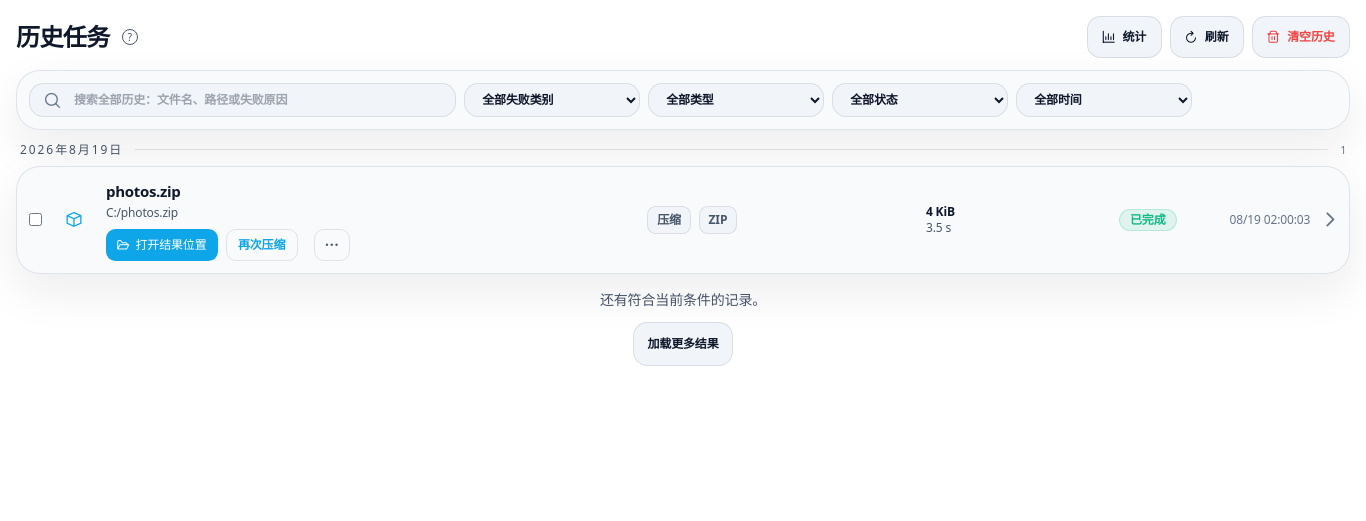
it: HistoryView › 搜索直接返回更早的匹配记录，刷新失败仍保留当前结果
Type "broken" into the field with test id "history-search".
click(242, 100); type("broken")  # box [29,83,456,117]
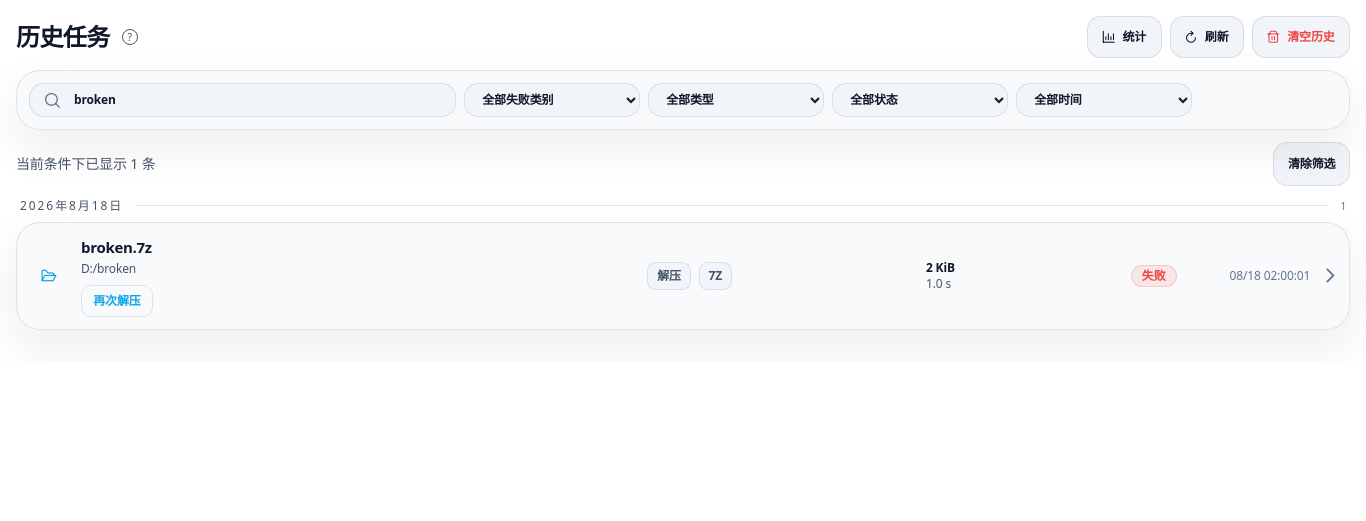
Click the button named "历史记录说明".
click(130, 37)  # box [122,29,138,45]
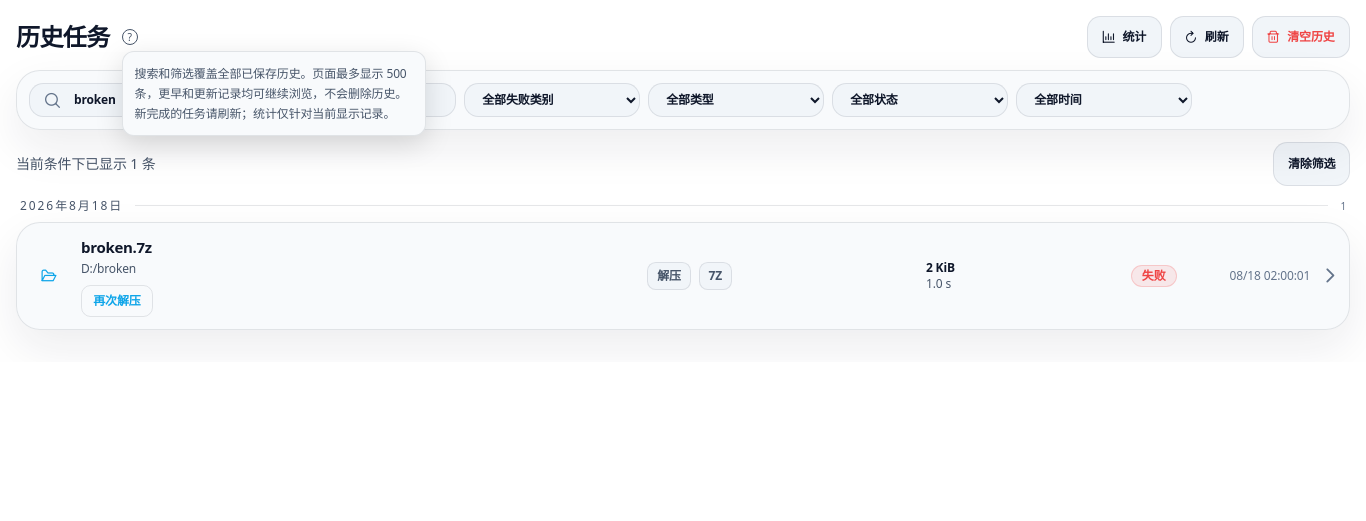
Expected: the element with test id "history-list" shows "broken.7z", [81,237,152,257]
Expected: the text with test id "history-retention-policy" shows "覆盖全部", [135,65,407,122]
Click the button "刷新".
click(1207, 37)  # box [1170,16,1244,58]
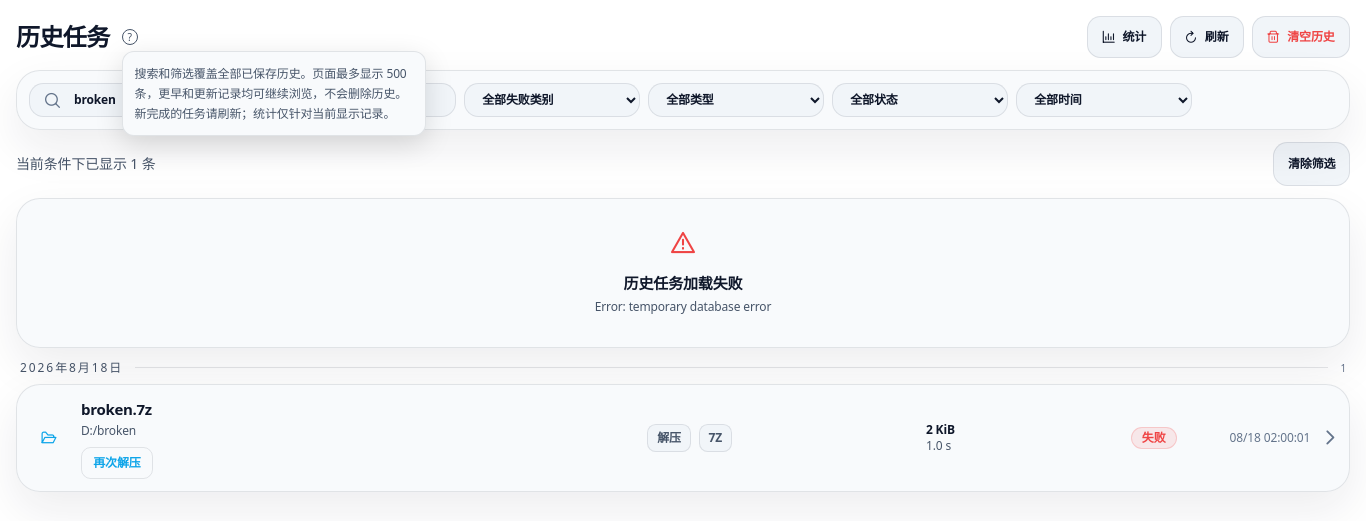
Expected: the element with test id "history-list" shows "broken.7z", [81,399,152,419]
Expected: the text "temporary database error" is shown, [595,298,771,315]
